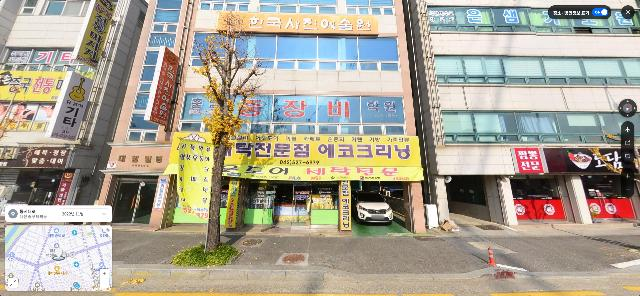ginkgo: (190, 9, 268, 255)
